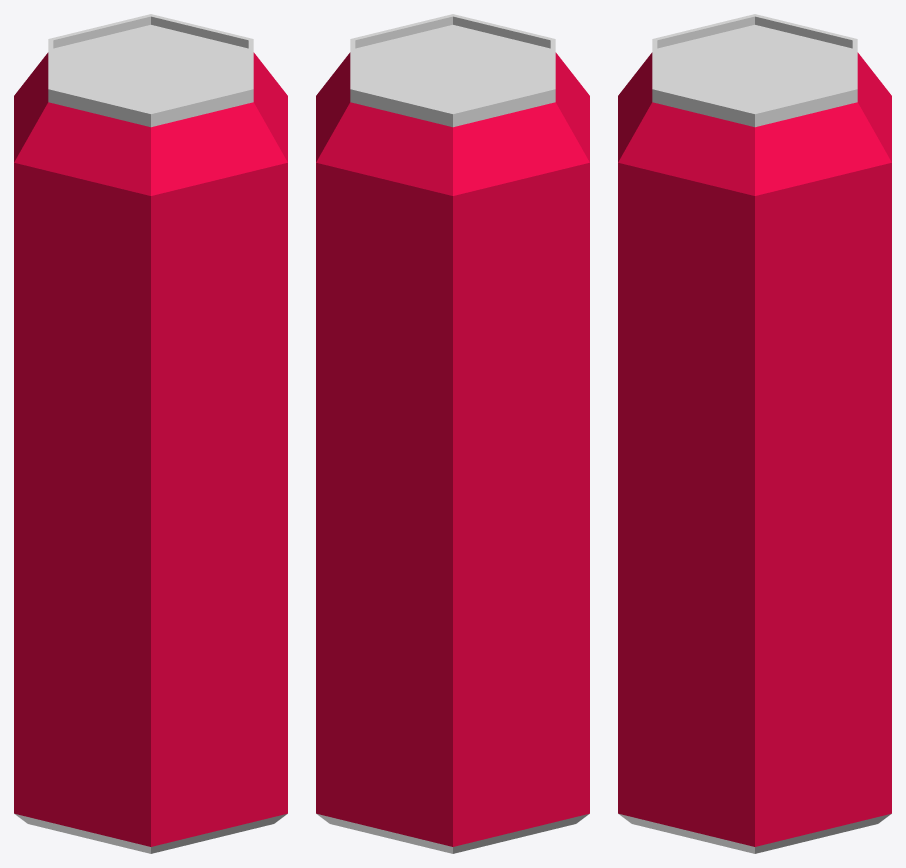
The model's file is GamesE_E03_XOT.fbx.
The picture shows the model from 3 angles, left to right: view 1: azimuth 30°, elevation 25°; view 2: azimuth 150°, elevation 25°; view 3: azimuth 270°, elevation 25°; orthographic projection.
Parts seen in each view (by area): view 1: XOT; view 2: XOT; view 3: XOT.
Part boxes in pixels (x1,y1,x2,y2): XOT: [14, 14, 287, 853]; XOT: [316, 14, 589, 853]; XOT: [618, 14, 891, 853].
Size of the model in its own units: 6.6 by 16.8 by 5.72.
